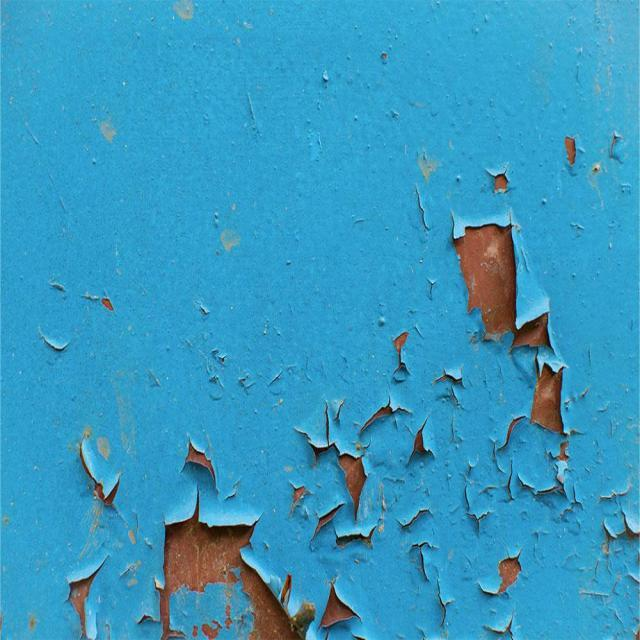Paint peeling: (150, 435, 369, 637), (449, 205, 591, 503), (295, 393, 444, 539), (77, 428, 133, 525), (61, 554, 106, 632), (479, 548, 518, 632), (551, 130, 586, 186)
